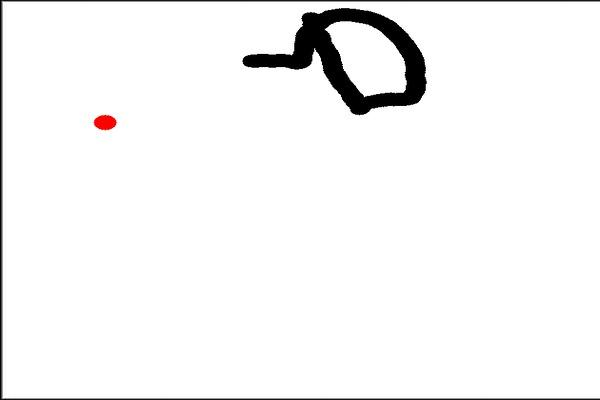D: (237, 4, 434, 119)
